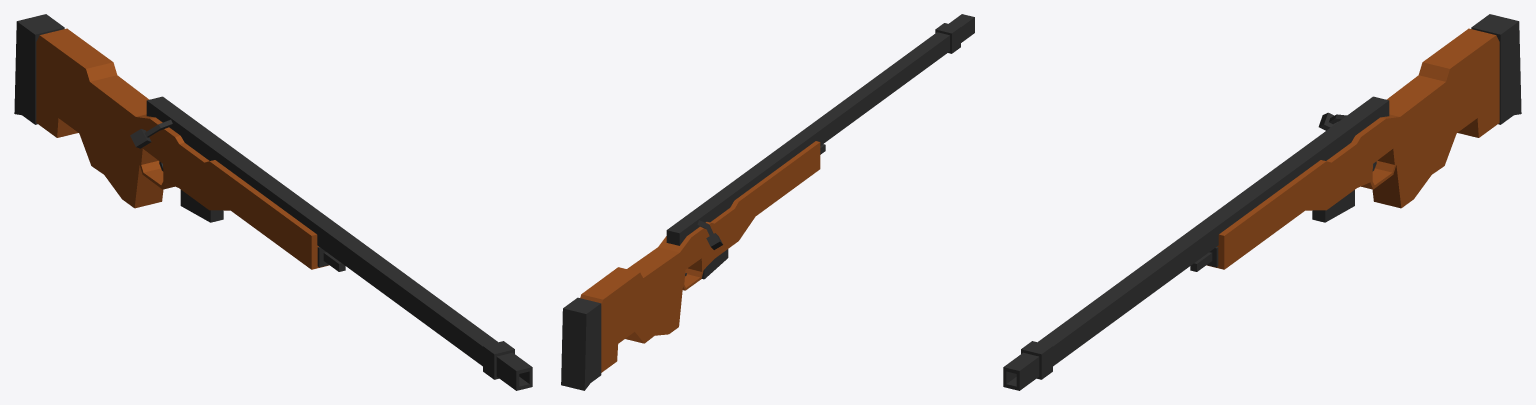
The model's file is AWM_Sniper_Rifle.fbx.
3 views of the same model, side by side, from view 1: azimuth 30°, elevation 25°; view 2: azimuth 150°, elevation 25°; view 3: azimuth 330°, elevation 25° (orthographic). The views are drawn at different scales.
Visible parts, largest first — view 1: AWM Sniper Rifle, AWM Magazine; view 2: AWM Sniper Rifle; view 3: AWM Sniper Rifle, AWM Magazine.
Part boxes in pixels (<box>): AWM Sniper Rifle: <box>14,14,532,390</box>; AWM Magazine: <box>180,189,223,222</box>; AWM Sniper Rifle: <box>561,14,974,390</box>; AWM Sniper Rifle: <box>1003,14,1521,390</box>; AWM Magazine: <box>1312,190,1354,222</box>.
Size of the model in its own units: 7.88 by 15.24 by 120.
